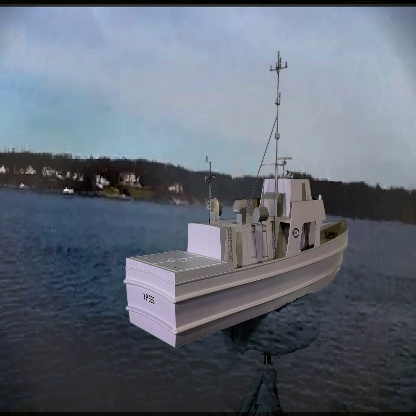YP689: (118, 49, 358, 348)
